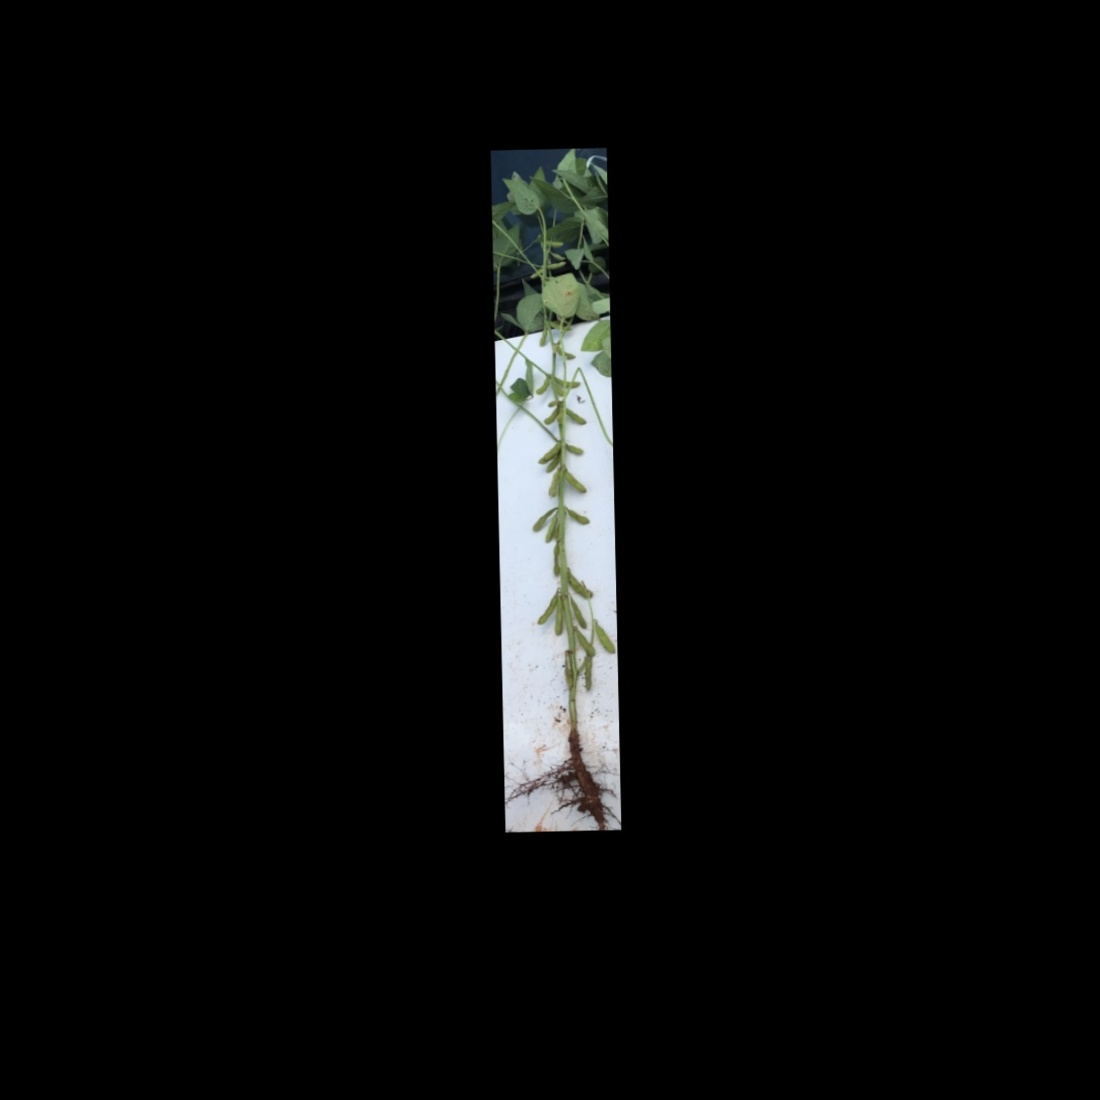pod: (564, 567, 594, 600), (588, 620, 615, 656), (526, 505, 560, 532), (536, 590, 560, 627), (534, 439, 561, 466), (564, 466, 589, 495), (562, 404, 589, 428), (563, 504, 592, 526), (573, 628, 595, 657), (581, 658, 596, 698), (570, 596, 588, 630), (552, 596, 565, 636), (546, 467, 561, 500), (553, 374, 582, 389), (540, 404, 559, 426), (559, 440, 585, 456), (544, 515, 558, 544), (535, 375, 552, 396)
soy: (492, 150, 618, 824)
